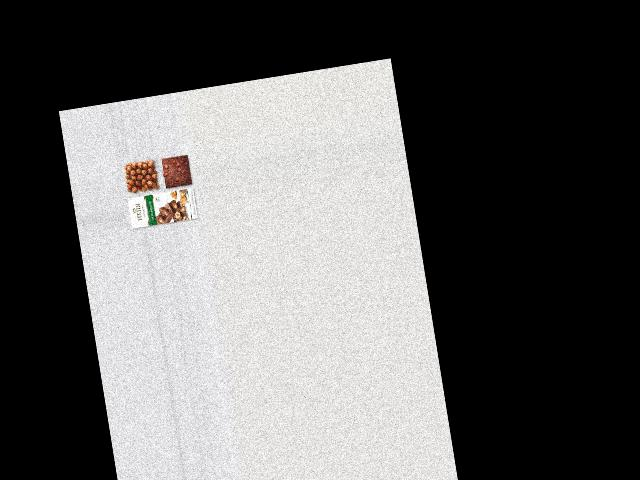chocolate: (160, 151, 194, 190)
